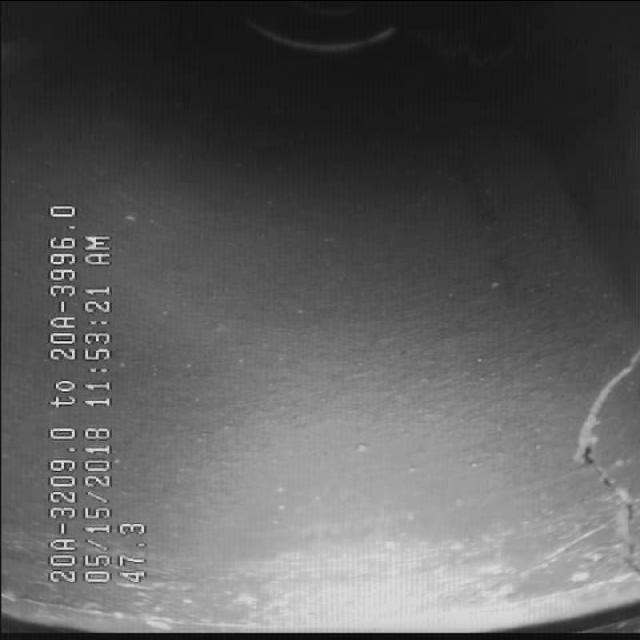Crack: (553, 346, 639, 572)
